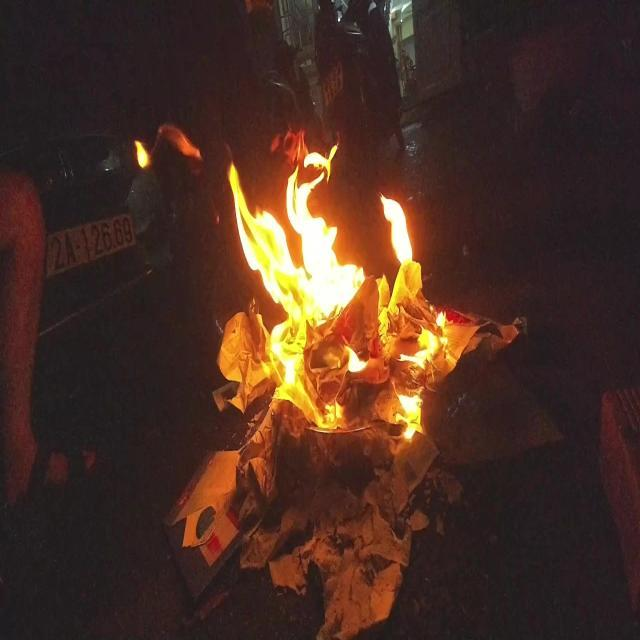Fire: (213, 126, 460, 452)
